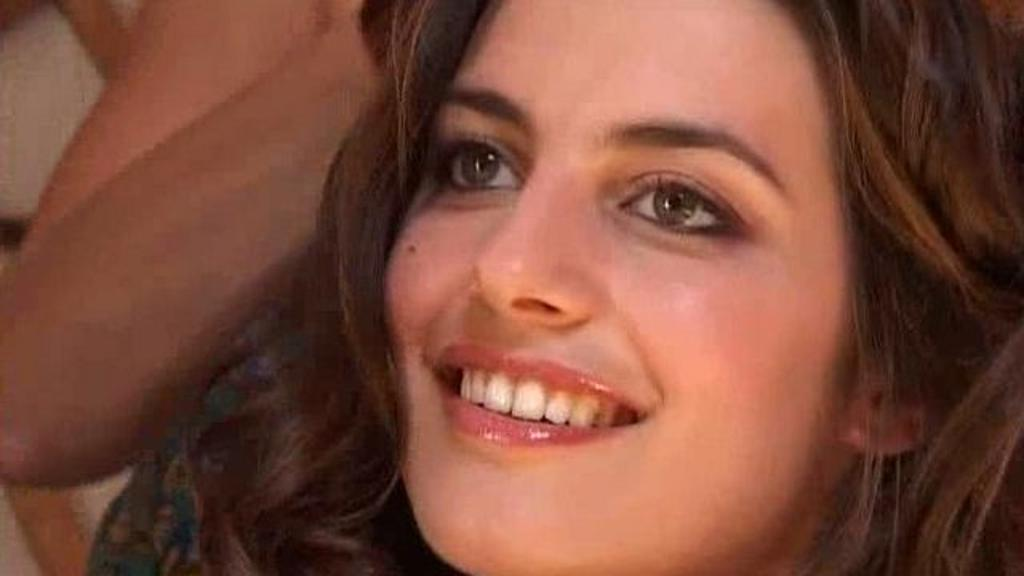face: (382, 8, 856, 564)
